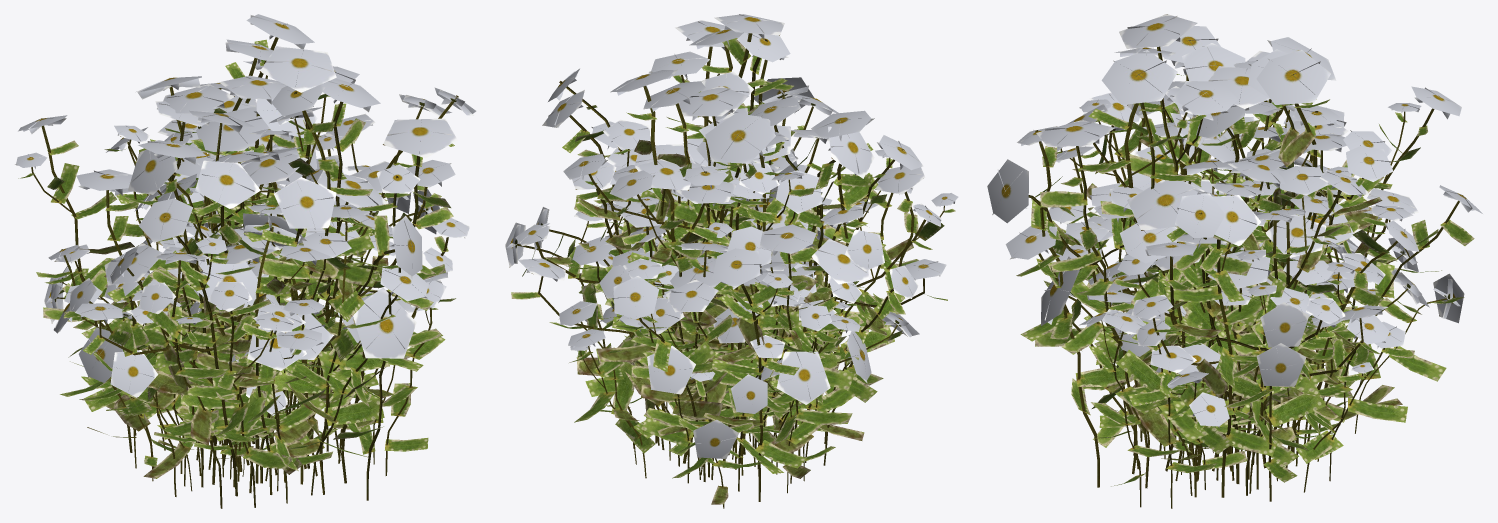
The model's file is daisy_1k.gltf.
The picture shows the model from 3 angles, left to right: view 1: azimuth 30°, elevation 25°; view 2: azimuth 150°, elevation 25°; view 3: azimuth 270°, elevation 25°; orthographic projection. The views are drawn at different scales.
Visible parts, largest first — view 1: Daisy_patch_big_2__LOD0, Daisy_patch_big_3__LOD0, Daisy_patch_big_1__LOD0, Daisy_patch_small_1__LOD0, Daisy_patch_small_3__LOD0, Daisy_patch_small_2__LOD0, Daisy_1__LOD0, Daisy_2__LOD0, Daisy_3__LOD0; view 2: Daisy_patch_big_1__LOD0, Daisy_patch_big_2__LOD0, Daisy_patch_big_3__LOD0, Daisy_patch_small_1__LOD0, Daisy_patch_small_2__LOD0, Daisy_patch_small_3__LOD0, Daisy_2__LOD0, Daisy_1__LOD0, Daisy_3__LOD0; view 3: Daisy_patch_big_2__LOD0, Daisy_patch_big_1__LOD0, Daisy_patch_big_3__LOD0, Daisy_patch_small_2__LOD0, Daisy_patch_small_1__LOD0, Daisy_patch_small_3__LOD0, Daisy_2__LOD0, Daisy_3__LOD0, Daisy_1__LOD0.
Boxes of the visible parts, <box> form: Daisy_patch_big_2__LOD0: <box>106,78,457,507</box>; Daisy_patch_big_3__LOD0: <box>36,75,469,508</box>; Daisy_patch_big_1__LOD0: <box>15,14,476,495</box>; Daisy_patch_small_1__LOD0: <box>76,46,359,483</box>; Daisy_patch_small_3__LOD0: <box>93,39,411,496</box>; Daisy_patch_small_2__LOD0: <box>104,84,387,487</box>; Daisy_1__LOD0: <box>134,106,283,475</box>; Daisy_2__LOD0: <box>144,94,395,449</box>; Daisy_3__LOD0: <box>146,135,325,477</box>; Daisy_patch_big_1__LOD0: <box>505,68,947,508</box>; Daisy_patch_big_2__LOD0: <box>511,20,941,481</box>; Daisy_patch_big_3__LOD0: <box>542,86,958,491</box>; Daisy_patch_small_1__LOD0: <box>565,14,841,473</box>; Daisy_patch_small_2__LOD0: <box>600,32,874,477</box>; Daisy_patch_small_3__LOD0: <box>534,80,923,479</box>; Daisy_2__LOD0: <box>631,108,800,459</box>; Daisy_1__LOD0: <box>612,117,785,463</box>; Daisy_3__LOD0: <box>655,159,805,459</box>; Daisy_patch_big_2__LOD0: <box>987,43,1482,508</box>; Daisy_patch_big_1__LOD0: <box>1005,26,1464,501</box>; Daisy_patch_big_3__LOD0: <box>1041,66,1429,497</box>; Daisy_patch_small_2__LOD0: <box>1088,46,1382,489</box>; Daisy_patch_small_1__LOD0: <box>1064,14,1418,493</box>; Daisy_patch_small_3__LOD0: <box>1079,49,1391,489</box>; Daisy_2__LOD0: <box>1113,113,1351,464</box>; Daisy_3__LOD0: <box>1156,148,1311,452</box>; Daisy_1__LOD0: <box>1137,101,1333,451</box>.
Size of what is drawn, in the model's own units: 0.7076 by 0.7188 by 0.7298.
1 material, 1 textured.
